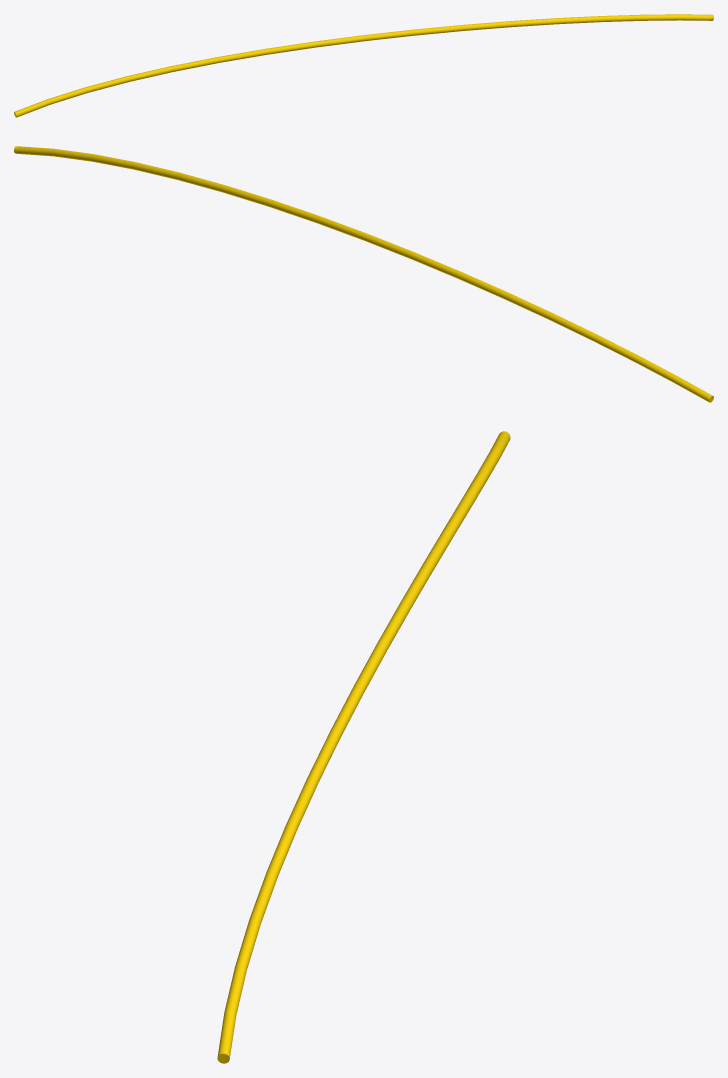
Rendered from Event_421115418_track_153.fbx.
The picture shows the model from 3 angles, top to bottom: view 1: azimuth 30°, elevation 25°; view 2: azimuth 150°, elevation 25°; view 3: azimuth 270°, elevation 25°; orthographic projection. The views are drawn at different scales.
Parts seen in each view (by area): view 1: Model; view 2: Model; view 3: Model.
Boxes of the visible parts, x1,y1,x2,y2 form: Model: (14, 14, 713, 117); Model: (14, 146, 713, 402); Model: (217, 431, 510, 1063).
Bounding box in the file's own units: 4.69 × 0.2642 × 0.9477.
